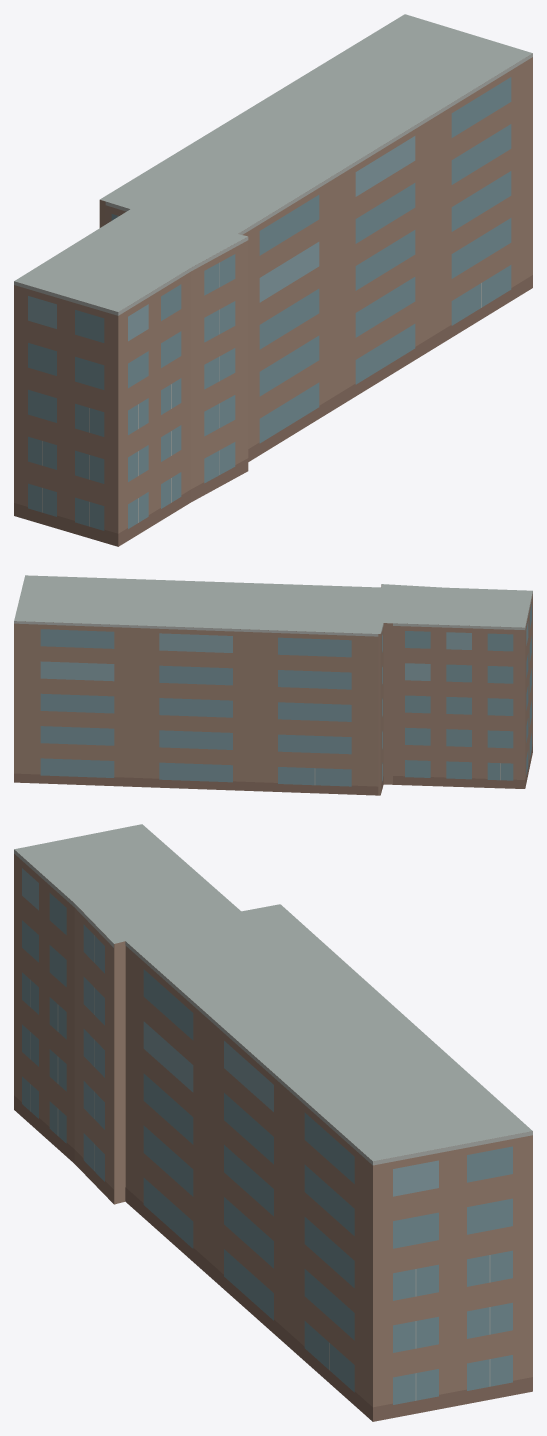
File: survey-upis-32642662.glb
3 views of the same model, one above another, from view 1: azimuth 30°, elevation 25°; view 2: azimuth 150°, elevation 25°; view 3: azimuth 270°, elevation 25° (orthographic). The views are drawn at different scales.
Visible parts, largest first — view 1: survey-upis-32642662.tmp; view 2: survey-upis-32642662.tmp; view 3: survey-upis-32642662.tmp.
Boxes of the visible parts, bbox=[...] form: survey-upis-32642662.tmp: bbox=[14, 14, 532, 546]; survey-upis-32642662.tmp: bbox=[14, 575, 532, 795]; survey-upis-32642662.tmp: bbox=[14, 824, 532, 1421].
Size of the model in its own units: 42.35 by 15.25 by 27.54.
